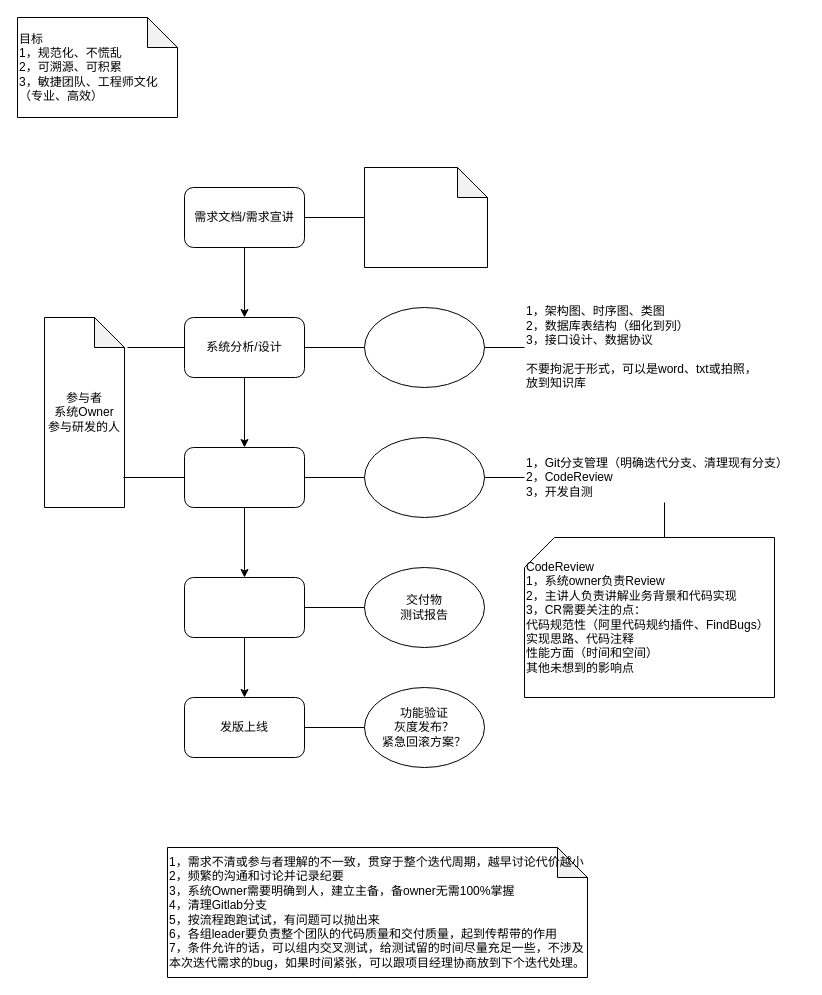
Image size: 822x995. Some labels were removed from this diagram. The shapes that lost their labels are listed below. From the top down, each one's centre as x and y in pixels, then its label:
point (426, 217): 人天评估 1，加buffer 2，实际人天 3，大需求还是小需求
point (424, 347): 交付物 系统分析文档
point (244, 477): 迭代开发
point (424, 477): 交付物 源代码、SQL脚本
point (244, 607): 测试
